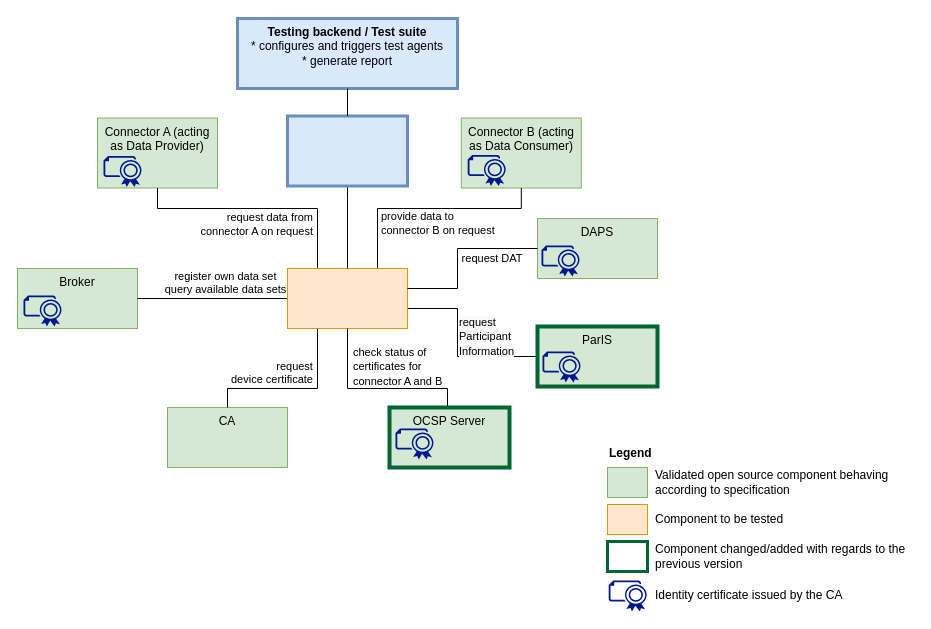
The diagram is 931 pixels wide and 629 high, and some of its shapes have lost their labels. The shapes that lost their labels are listed below. From the top down, each one's centre as x and y in pixels, then its label:
the point at 347,150: Testing Agent for connector endpoints (user login, ...)
the point at 347,298: Connector under test
